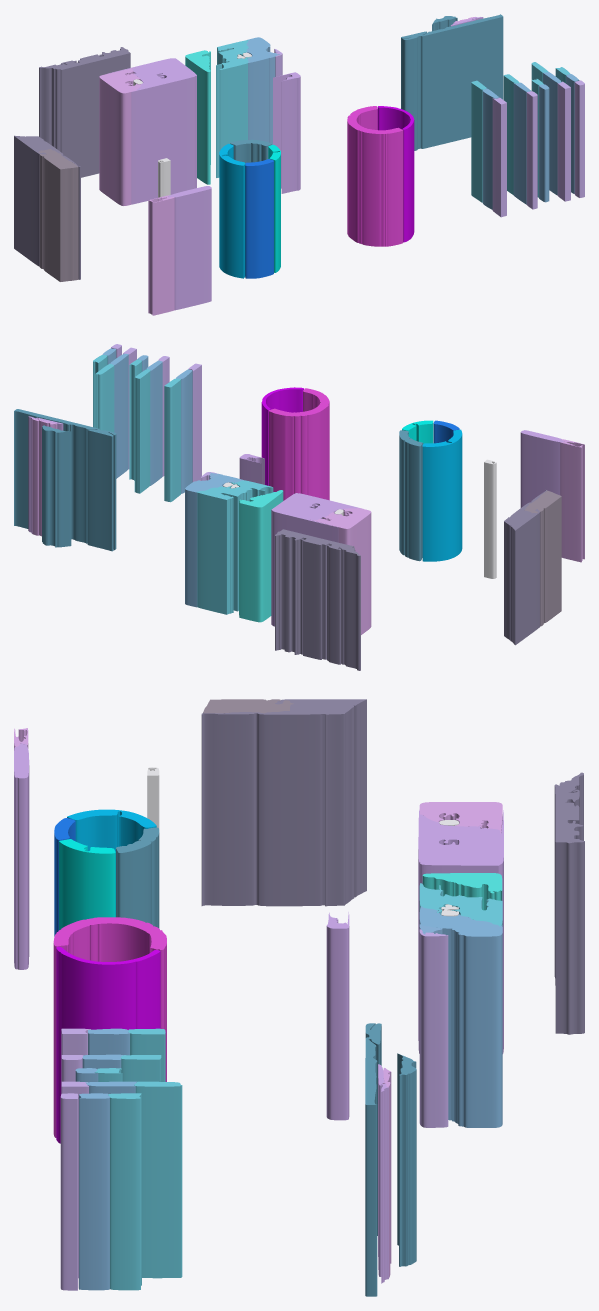
File: colourdashboard3D.glb
3 views of the same model, one above another, from view 1: azimuth 30°, elevation 25°; view 2: azimuth 150°, elevation 25°; view 3: azimuth 270°, elevation 25° (orthographic). The views are drawn at different scales.
Visible parts, largest first — view 1: imagetostl_mesh48, imagetostl_mesh0, imagetostl_mesh56, imagetostl_mesh8, imagetostl_mesh54, imagetostl_mesh2, imagetostl_mesh24, imagetostl_mesh10, imagetostl_mesh78, imagetostl_mesh70, imagetostl_mesh26, imagetostl_mesh4 (+27 smaller); view 2: imagetostl_mesh8, imagetostl_mesh48, imagetostl_mesh56, imagetostl_mesh12, imagetostl_mesh70, imagetostl_mesh10, imagetostl_mesh58, imagetostl_mesh52, imagetostl_mesh26, imagetostl_mesh50, imagetostl_mesh54, imagetostl_mesh2 (+25 smaller); view 3: imagetostl_mesh10, imagetostl_mesh30, imagetostl_mesh14, imagetostl_mesh72, imagetostl_mesh8, imagetostl_mesh20, imagetostl_mesh38, imagetostl_mesh68, imagetostl_mesh4, imagetostl_mesh56, imagetostl_mesh74, imagetostl_mesh52 (+21 smaller).
Part boxes in pixels (x1,y1,x2,y2): imagetostl_mesh48: (401, 17, 503, 150); imagetostl_mesh0: (107, 72, 196, 204); imagetostl_mesh56: (347, 109, 403, 246); imagetostl_mesh8: (39, 49, 130, 177); imagetostl_mesh54: (39, 155, 78, 281); imagetostl_mesh2: (174, 188, 211, 310); imagetostl_mesh24: (99, 71, 140, 205); imagetostl_mesh10: (14, 136, 80, 279); imagetostl_mesh78: (245, 161, 273, 278); imagetostl_mesh70: (219, 146, 245, 278); imagetostl_mesh26: (148, 197, 174, 315); imagetostl_mesh4: (273, 73, 300, 193); imagetostl_mesh8: (275, 534, 360, 670); imagetostl_mesh48: (14, 411, 116, 551); imagetostl_mesh56: (268, 391, 329, 500); imagetostl_mesh12: (197, 482, 273, 614); imagetostl_mesh70: (422, 432, 462, 561); imagetostl_mesh10: (504, 490, 545, 645); imagetostl_mesh58: (239, 491, 283, 622); imagetostl_mesh52: (42, 427, 71, 547); imagetostl_mesh26: (560, 442, 584, 562); imagetostl_mesh50: (399, 432, 423, 561); imagetostl_mesh54: (540, 496, 561, 626); imagetostl_mesh2: (520, 432, 560, 507); imagetostl_mesh10: (201, 699, 366, 906); imagetostl_mesh30: (419, 912, 502, 1127); imagetostl_mesh14: (134, 1085, 182, 1278); imagetostl_mesh72: (56, 948, 160, 1143); imagetostl_mesh8: (554, 775, 584, 1034); imagetostl_mesh20: (110, 1094, 141, 1290); imagetostl_mesh38: (79, 1095, 109, 1290); imagetostl_mesh68: (419, 932, 448, 1127); imagetostl_mesh4: (326, 918, 349, 1120); imagetostl_mesh56: (53, 923, 166, 1137); imagetostl_mesh74: (59, 841, 115, 930); imagetostl_mesh52: (397, 1053, 416, 1266).
Size of the model in its own units: 90.86 by 20 by 54.03.
